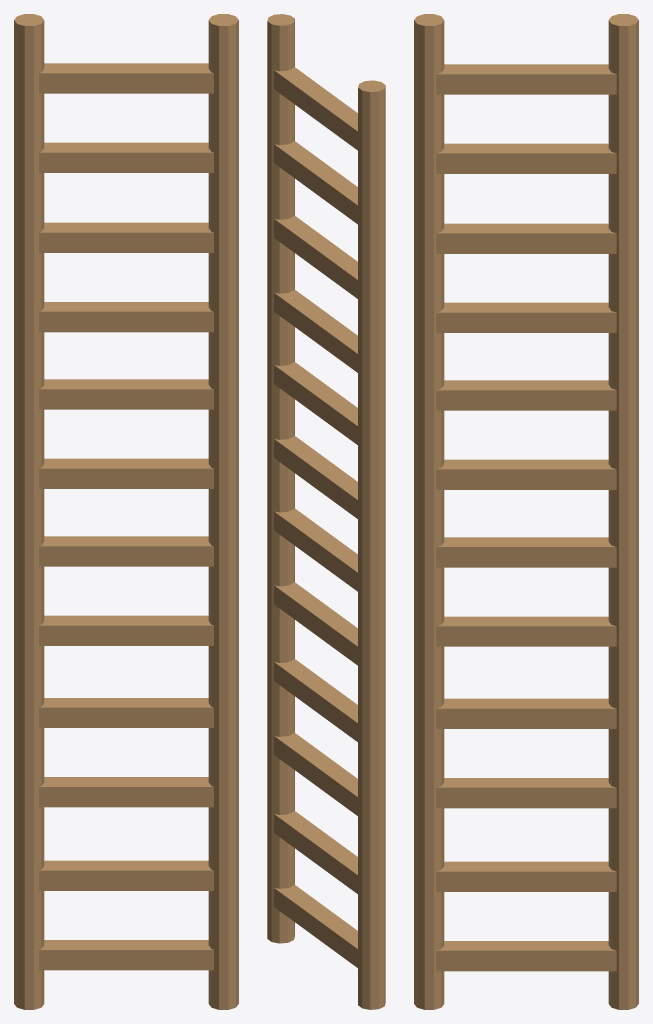
The model's file is WoodenLadder.fbx.
3 renders of one model, left to right at view 1: azimuth 90°, elevation 25°; view 2: azimuth 210°, elevation 25°; view 3: azimuth 270°, elevation 25°, orthographic. The views are drawn at different scales.
Visible parts, largest first — view 1: Cube.010; view 2: Cube.010; view 3: Cube.010.
Part boxes in pixels (x1=…): Cube.010: x1=14, y1=14, x2=238, y2=1009; Cube.010: x1=267, y1=14, x2=385, y2=1009; Cube.010: x1=414, y1=14, x2=638, y2=1009.
Size of the model in its own units: 15.15 by 573 by 119.
